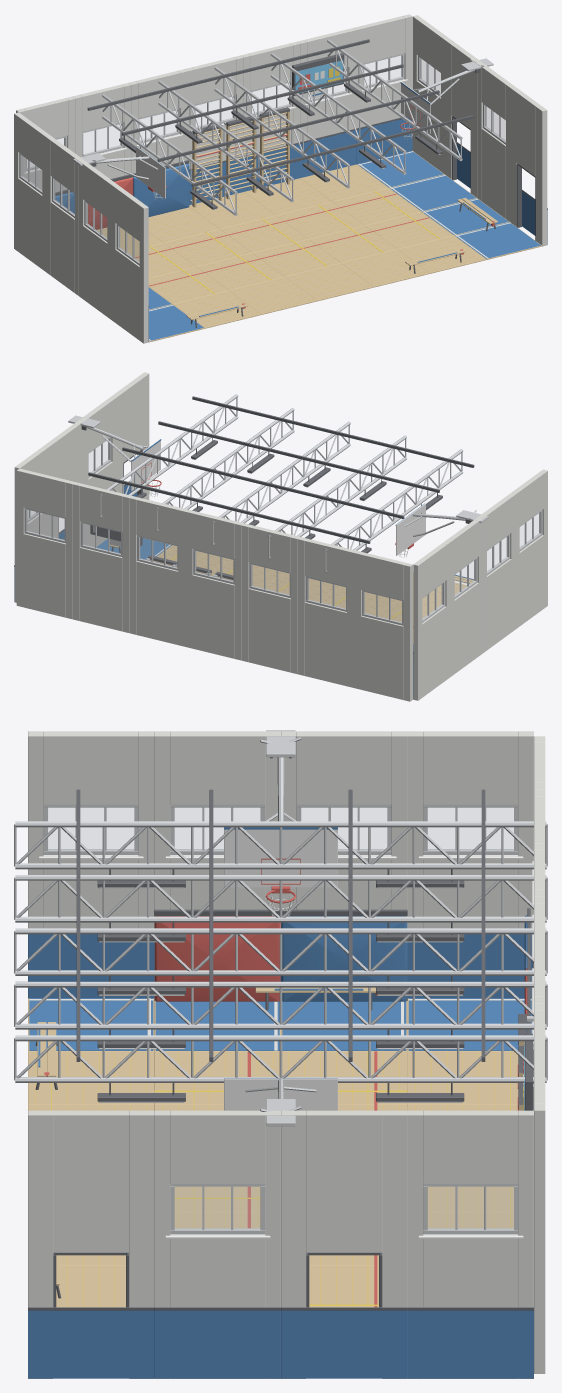
The model's file is sports-hall-court.glb.
3 renders of one model, top to bottom at view 1: azimuth 30°, elevation 25°; view 2: azimuth 150°, elevation 25°; view 3: azimuth 270°, elevation 25°, orthographic. The views are drawn at different scales.
Visible parts, largest first — view 1: 058-hall-wall-module0, 055-hall-wall-module0, 057-hall-wall-module0, 066-hall-wall-module-doorway0, 056-hall-wall-module0, 065-hall-wall-module0, 050-hall-wall-module0, 064-hall-wall-module-doorway0, 047-hall-wall-module0, 063-hall-wall-module0, 048-hall-wall-module0, 045-hall-wall-module0 (+62 smaller); view 2: 044-hall-wall-module0, 047-hall-wall-module0, 050-hall-wall-module0, 048-hall-wall-module0, 046-hall-wall-module0, 049-hall-wall-module0, 045-hall-wall-module0, 055-hall-wall-module0, 058-hall-wall-module0, 056-hall-wall-module0, 057-hall-wall-module0, 066-hall-wall-module-doorway0 (+38 smaller); view 3: 066-hall-wall-module-doorway0, 064-hall-wall-module-doorway0, 063-hall-wall-module0, 065-hall-wall-module0, 058-hall-wall-module0, 055-hall-wall-module0, 057-hall-wall-module0, 056-hall-wall-module0, 067-roof-truss-bay0, 070-roof-truss-bay0, 068-roof-truss-bay0, 069-roof-truss-bay0 (+49 smaller).
Part boxes in pixels (x1,y1,x2,y2): 058-hall-wall-module0: (111, 183, 148, 343); 055-hall-wall-module0: (14, 112, 50, 271); 057-hall-wall-module0: (79, 160, 115, 319); 066-hall-wall-module-doorway0: (510, 86, 547, 246); 056-hall-wall-module0: (46, 136, 83, 295); 065-hall-wall-module0: (477, 62, 514, 221); 050-hall-wall-module0: (354, 14, 412, 128); 064-hall-wall-module-doorway0: (445, 39, 481, 197); 047-hall-wall-module0: (185, 55, 243, 168); 063-hall-wall-module0: (412, 15, 449, 173); 048-hall-wall-module0: (241, 41, 299, 155); 045-hall-wall-module0: (72, 83, 131, 178); 044-hall-wall-module0: (354, 551, 412, 701); 047-hall-wall-module0: (185, 509, 243, 660); 050-hall-wall-module0: (16, 468, 75, 619); 048-hall-wall-module0: (129, 496, 187, 646); 046-hall-wall-module0: (241, 523, 300, 674); 049-hall-wall-module0: (73, 482, 131, 632); 045-hall-wall-module0: (298, 537, 356, 687); 055-hall-wall-module0: (413, 541, 450, 700); 058-hall-wall-module0: (511, 469, 547, 628); 056-hall-wall-module0: (446, 517, 482, 676); 057-hall-wall-module0: (478, 493, 515, 652); 066-hall-wall-module-doorway0: (112, 372, 149, 499); 066-hall-wall-module-doorway0: (28, 1110, 154, 1378); 064-hall-wall-module-doorway0: (281, 1110, 407, 1378); 063-hall-wall-module0: (407, 1110, 533, 1378); 065-hall-wall-module0: (154, 1110, 280, 1378); 058-hall-wall-module0: (28, 731, 154, 928); 055-hall-wall-module0: (407, 731, 533, 928); 057-hall-wall-module0: (154, 731, 280, 927); 056-hall-wall-module0: (281, 731, 407, 927); 067-roof-truss-bay0: (14, 821, 547, 869); 070-roof-truss-bay0: (14, 981, 547, 1029); 068-roof-truss-bay0: (14, 875, 547, 922); 069-roof-truss-bay0: (14, 928, 547, 975).
Bounding box in the file's own units: 14.7 × 4.65 × 8.44.
